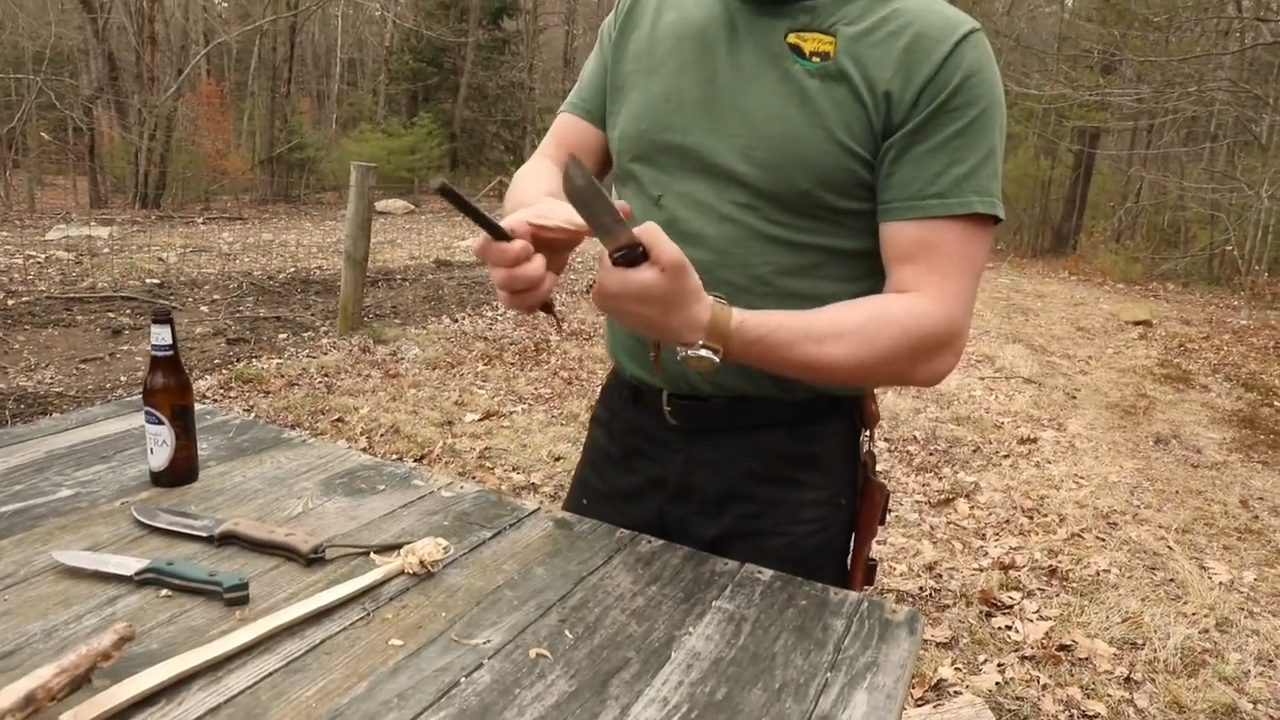knife: (552, 141, 693, 338)
